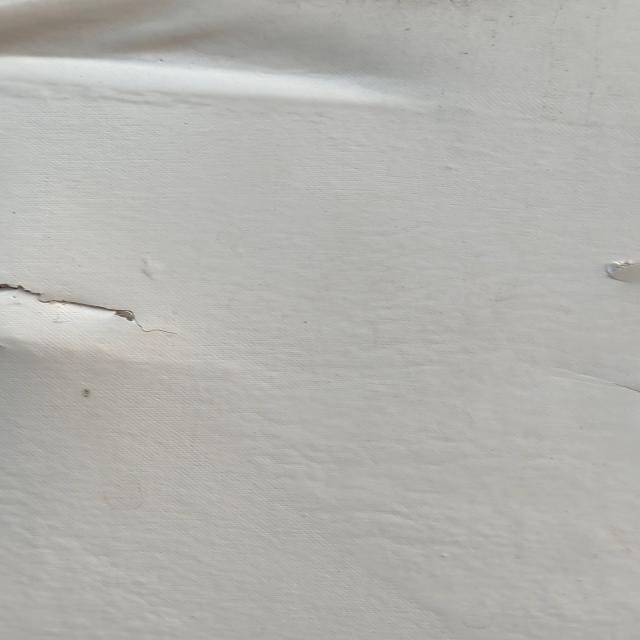Dents or Deformation: (1, 1, 499, 116)
Scratches: (1, 272, 199, 355), (576, 246, 640, 294)
